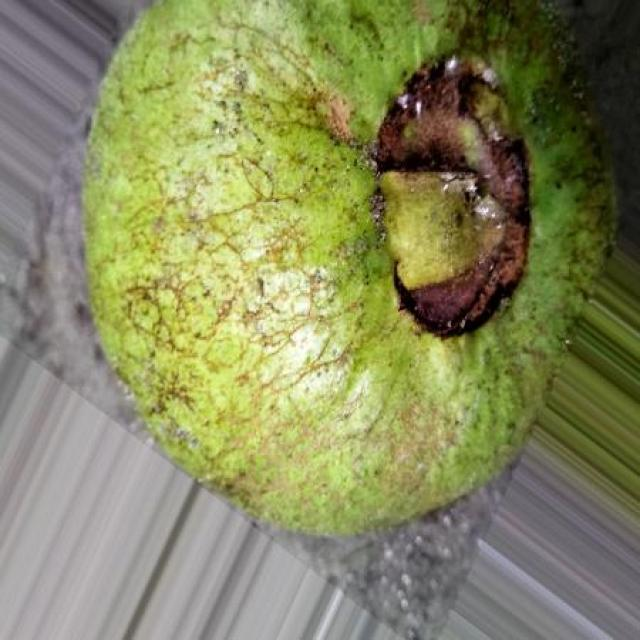Scab: (85, 0, 608, 533)
